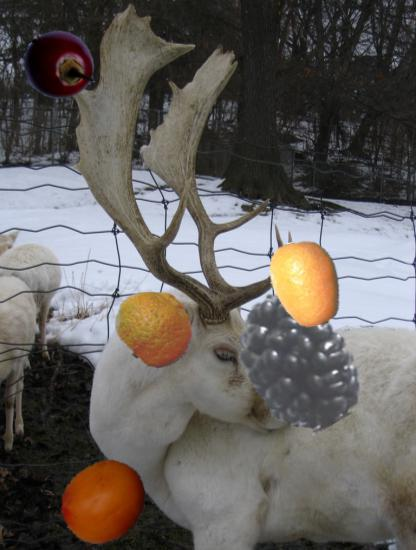Apricot: (59, 457, 150, 548)
Kumquats: (262, 240, 350, 328)
Mandarine: (114, 286, 197, 369)
Mulberry: (224, 288, 370, 434)
Tamarillo: (23, 30, 95, 102)
